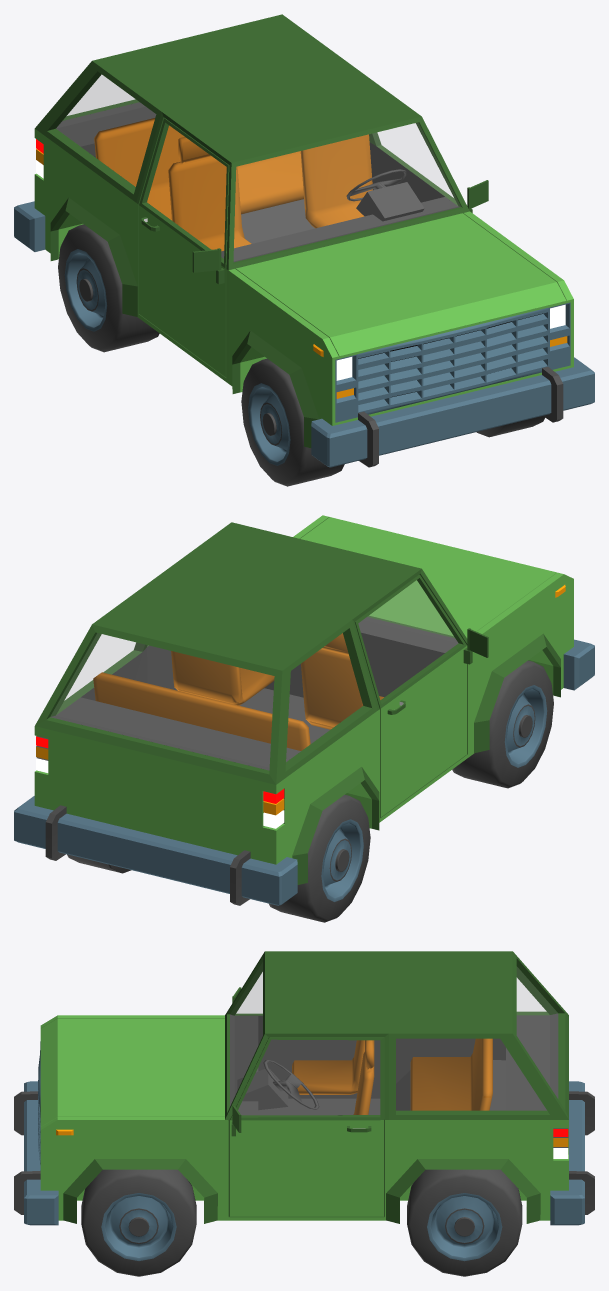
Rendered from rivian-r1t.glb.
3 renders of one model, top to bottom at view 1: azimuth 30°, elevation 25°; view 2: azimuth 150°, elevation 25°; view 3: azimuth 270°, elevation 25°, orthographic. The views are drawn at different scales.
Parts seen in each view (by area): view 1: Cube.037, Cube.044, Cube.056, Cube.045, Cube.043, Cube.055, Cylinder.010, Cylinder.012, Cube.048, Cylinder.013, Cube.042, Cube.046 (+1 smaller); view 2: Cube.037, Cube.056, Cube.055, Cube.044, Cube.046, Cylinder.012, Cylinder.010, Cube.048, Cube.045; view 3: Cube.037, Cube.044, Cube.055, Cylinder.012, Cylinder.010, Cube.056, Cube.046, Cube.045, Cylinder.013, Cube.048.
Boxes of the visible parts, box(x1,y1,x2,y2) form: Cube.037: box(34, 14, 573, 447); Cube.044: box(141, 180, 573, 357); Cube.056: box(94, 118, 372, 251); Cube.045: box(311, 357, 594, 467); Cube.043: box(357, 307, 548, 416); Cube.055: box(56, 102, 460, 262); Cylinder.010: box(241, 358, 544, 486); Cylinder.012: box(58, 224, 159, 352); Cube.048: box(63, 75, 458, 206); Cylinder.013: box(346, 169, 424, 221); Cube.042: box(335, 302, 570, 422); Cube.046: box(14, 201, 45, 251); Cube.037: box(34, 522, 573, 884); Cube.056: box(93, 633, 383, 750); Cube.055: box(50, 617, 458, 770); Cube.044: box(293, 515, 563, 714); Cube.046: box(14, 796, 297, 905); Cylinder.012: box(67, 794, 370, 922); Cylinder.010: box(452, 660, 553, 788); Cube.048: box(56, 580, 454, 714); Cube.045: box(563, 639, 594, 690); Cube.037: box(40, 951, 568, 1223); Cube.044: box(40, 987, 371, 1136); Cube.055: box(230, 1013, 558, 1115); Cylinder.012: box(407, 1169, 522, 1276); Cylinder.010: box(81, 1169, 196, 1276); Cube.056: box(292, 1038, 492, 1114); Cube.046: box(550, 1081, 594, 1225); Cube.045: box(14, 1081, 58, 1225); Cylinder.013: box(237, 1060, 319, 1110); Cube.048: box(235, 972, 549, 1015).
Bounding box in the file's own units: 2.88 × 2.43 × 5.53.
6 materials, 1 textured.
